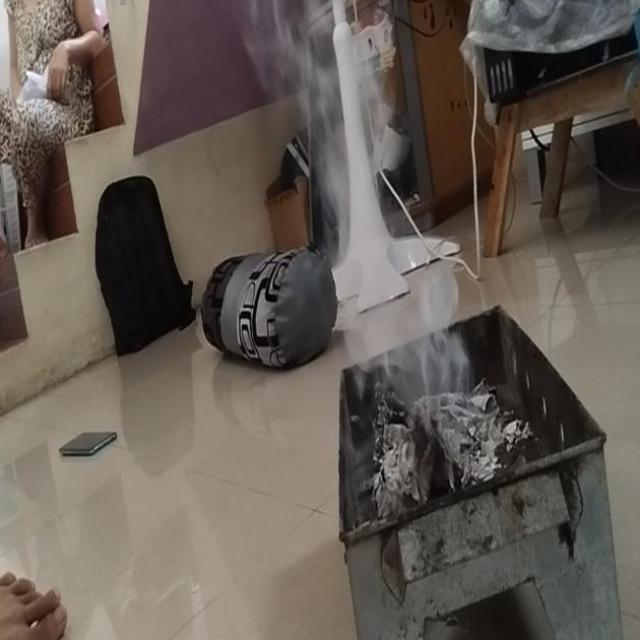fire: (256, 0, 395, 350), (387, 274, 469, 408)
